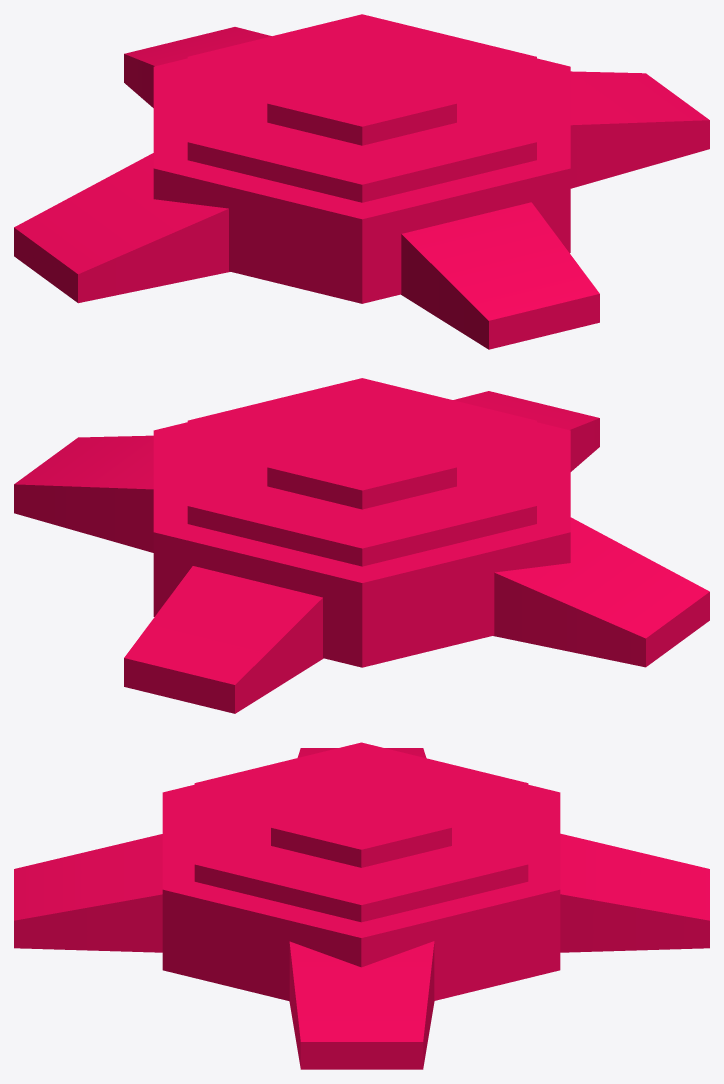
File: MinaExplosiva.fbx
3 renders of one model, top to bottom at view 1: azimuth 30°, elevation 25°; view 2: azimuth 150°, elevation 25°; view 3: azimuth 270°, elevation 25°, orthographic. The views are drawn at different scales.
Parts seen in each view (by area): view 1: Box003; view 2: Box003; view 3: Box003.
Part boxes in pixels (x1,y1,x2,y2): Box003: [14, 14, 709, 349]; Box003: [14, 378, 709, 713]; Box003: [14, 742, 709, 1069].
Size of the model in its own units: 34.95 by 6.47 by 34.95.
